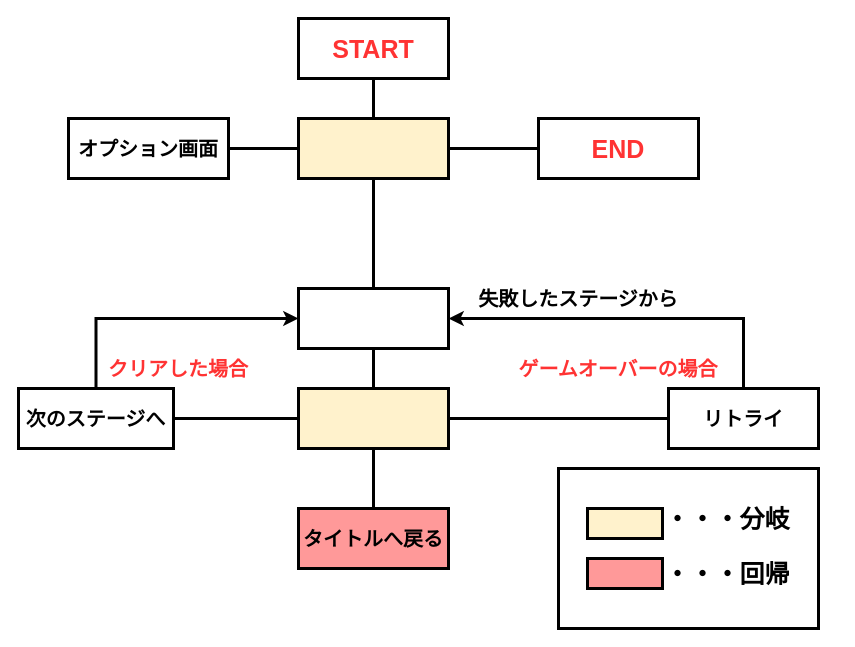
Some shapes in this 855 by 647 pixel diagram are drawn without their labels. Here are the shapes that lost their labels. From the top down, the centre of each, then its label:
At point (373, 148): "タイトル".
At point (373, 318): "ゲーム開始".
At point (373, 418): "結果".
